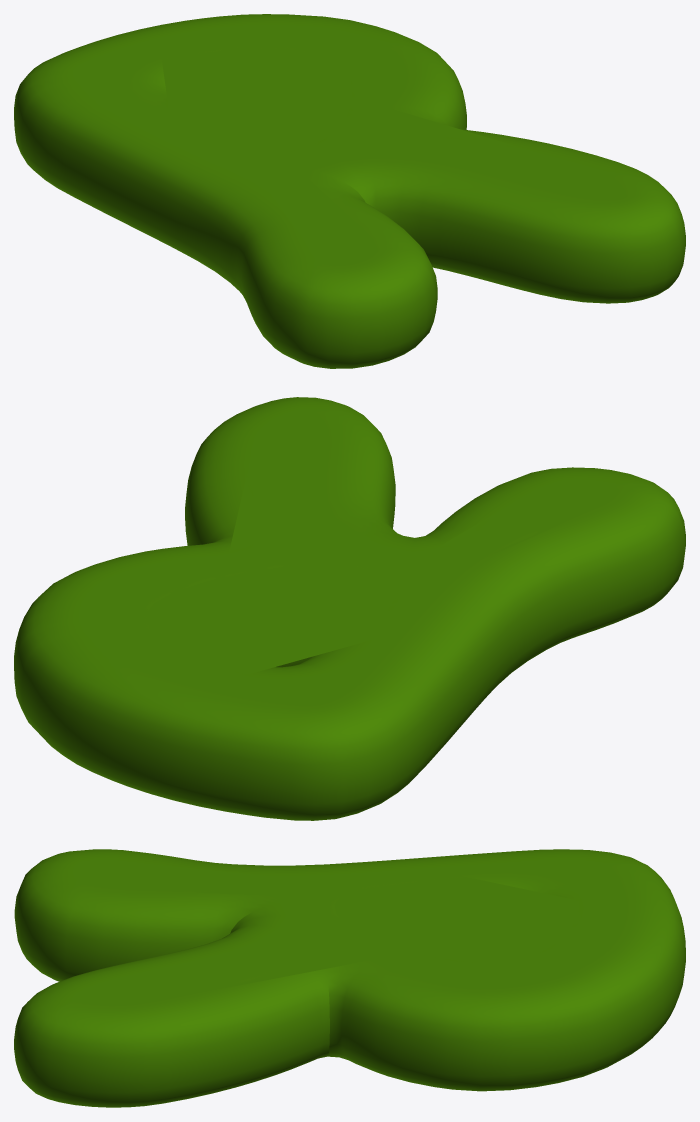
The picture shows the model from 3 angles, top to bottom: view 1: azimuth 30°, elevation 25°; view 2: azimuth 150°, elevation 25°; view 3: azimuth 270°, elevation 25°; orthographic projection. The views are drawn at different scales.
Parts seen in each view (by area): view 1: Curve.019; view 2: Curve.019; view 3: Curve.019.
Part boxes in pixels (x1,y1,x2,y2): Curve.019: (14,14,685,368); Curve.019: (14,397,685,820); Curve.019: (14,849,685,1107).
Size of the model in its own units: 228 by 49.54 by 332.
Materials: 1 (1 with a texture image).
